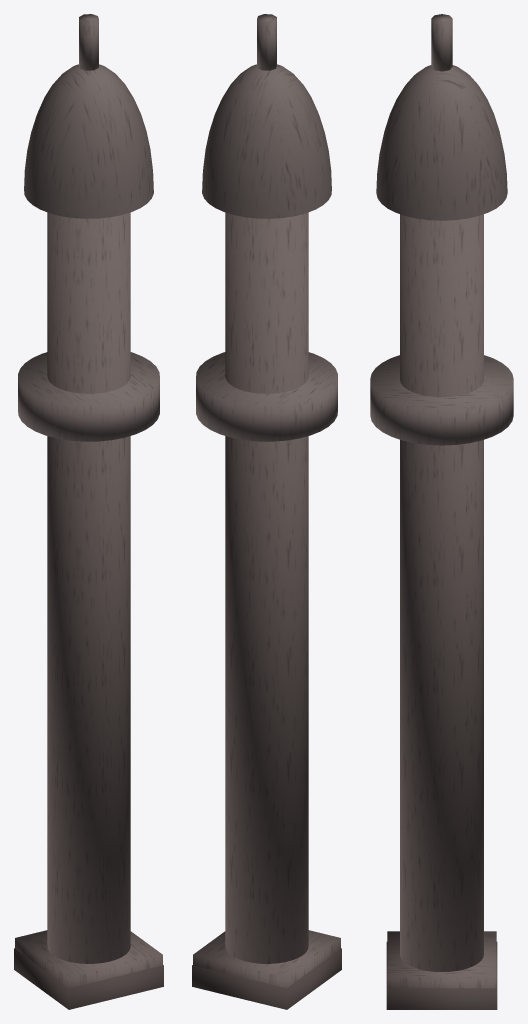
The model's file is SM_Souq_Minaret.fbx.
The picture shows the model from 3 angles, left to right: view 1: azimuth 30°, elevation 25°; view 2: azimuth 150°, elevation 25°; view 3: azimuth 270°, elevation 25°; orthographic projection.
Parts seen in each view (by area): view 1: SM_Souq_Minaret; view 2: SM_Souq_Minaret; view 3: SM_Souq_Minaret.
Part boxes in pixels (x1,y1,x2,y2): SM_Souq_Minaret: (14,14,163,1009); SM_Souq_Minaret: (192,14,341,1009); SM_Souq_Minaret: (370,14,513,1009).
Size of the model in its own units: 242 by 1803 by 242.
Materials: 3 (3 with a texture image).
